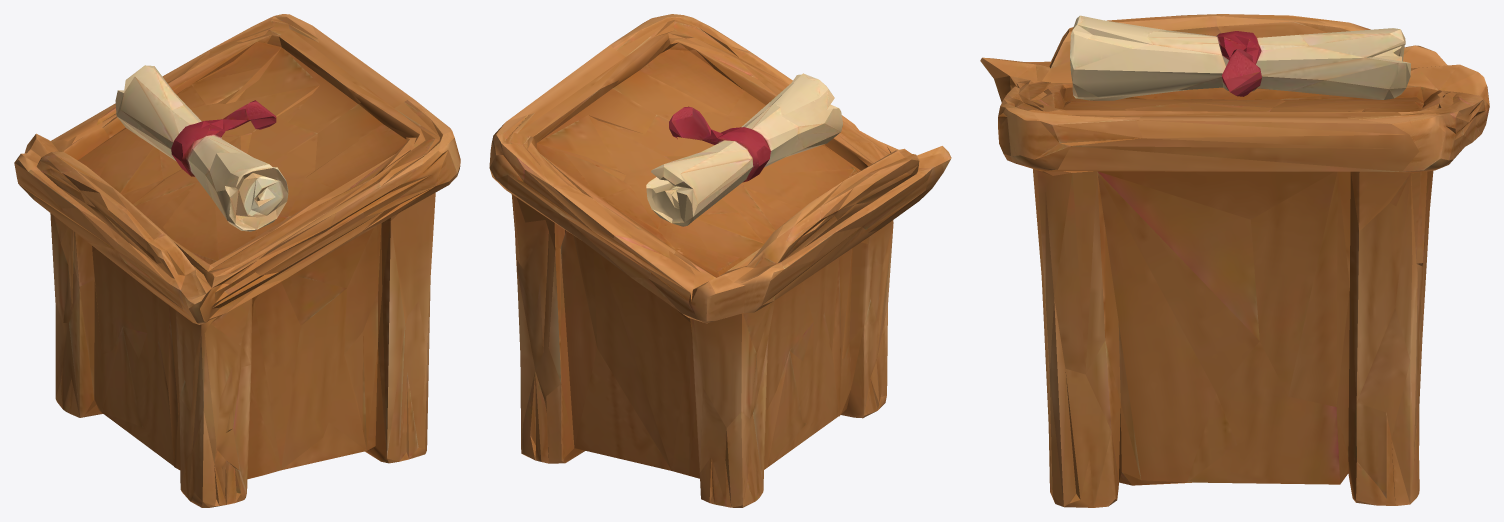
Rendered from lectern.glb.
3 views of the same model, side by side, from view 1: azimuth 30°, elevation 25°; view 2: azimuth 150°, elevation 25°; view 3: azimuth 270°, elevation 25° (orthographic). The views are drawn at different scales.
Size of the model in its own units: 1.52 by 1.6 by 1.86.
Materials: 1 (1 with a texture image).
